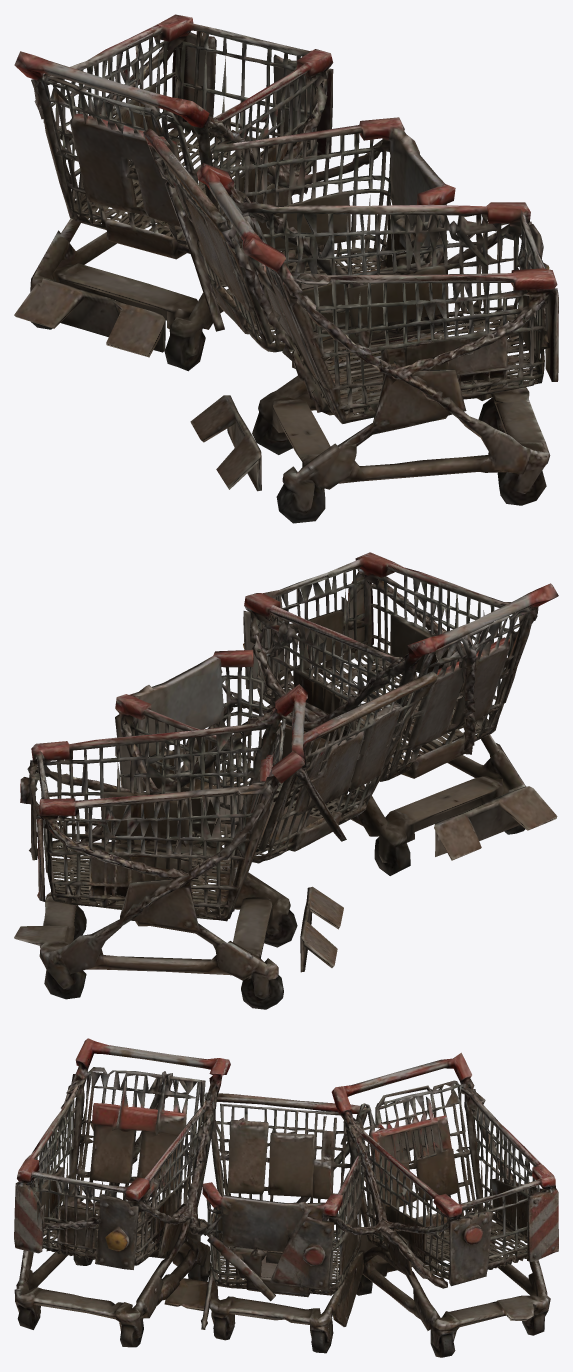
Rendered from tripo_convert_630c93d6-0a49-4249-98a2-407ae2785e60.fbx.
3 views of the same model, one above another, from view 1: azimuth 30°, elevation 25°; view 2: azimuth 150°, elevation 25°; view 3: azimuth 270°, elevation 25° (orthographic). The views are drawn at different scales.
Parts seen in each view (by area): view 1: tripo_node_630c93d6; view 2: tripo_node_630c93d6; view 3: tripo_node_630c93d6.
Part boxes in pixels (left/top/right/bottom): tripo_node_630c93d6: left=14, top=14, right=558, bottom=523; tripo_node_630c93d6: left=14, top=552, right=558, bottom=1009; tripo_node_630c93d6: left=14, top=1038, right=558, bottom=1357.
Bounding box in the file's own units: 0.5224 × 0.4236 × 0.98.
1 material, 1 textured.
